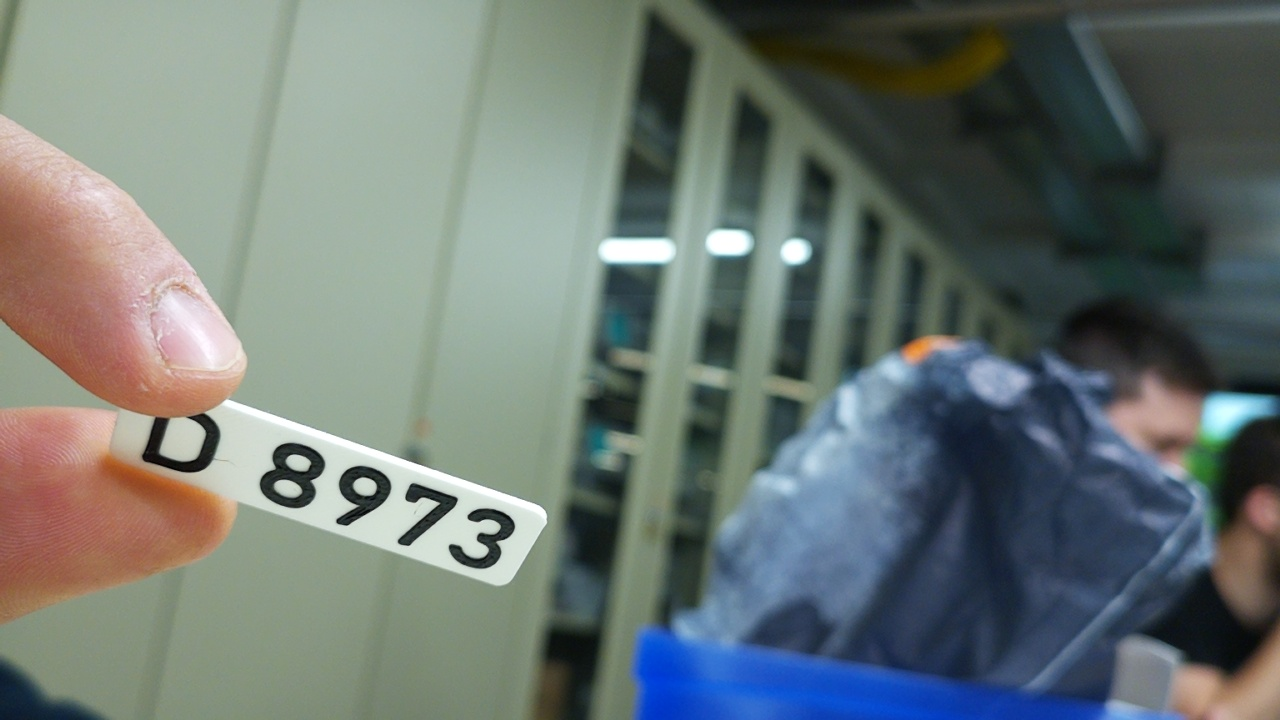license_plate: (103, 386, 549, 591), (93, 486, 103, 488)
